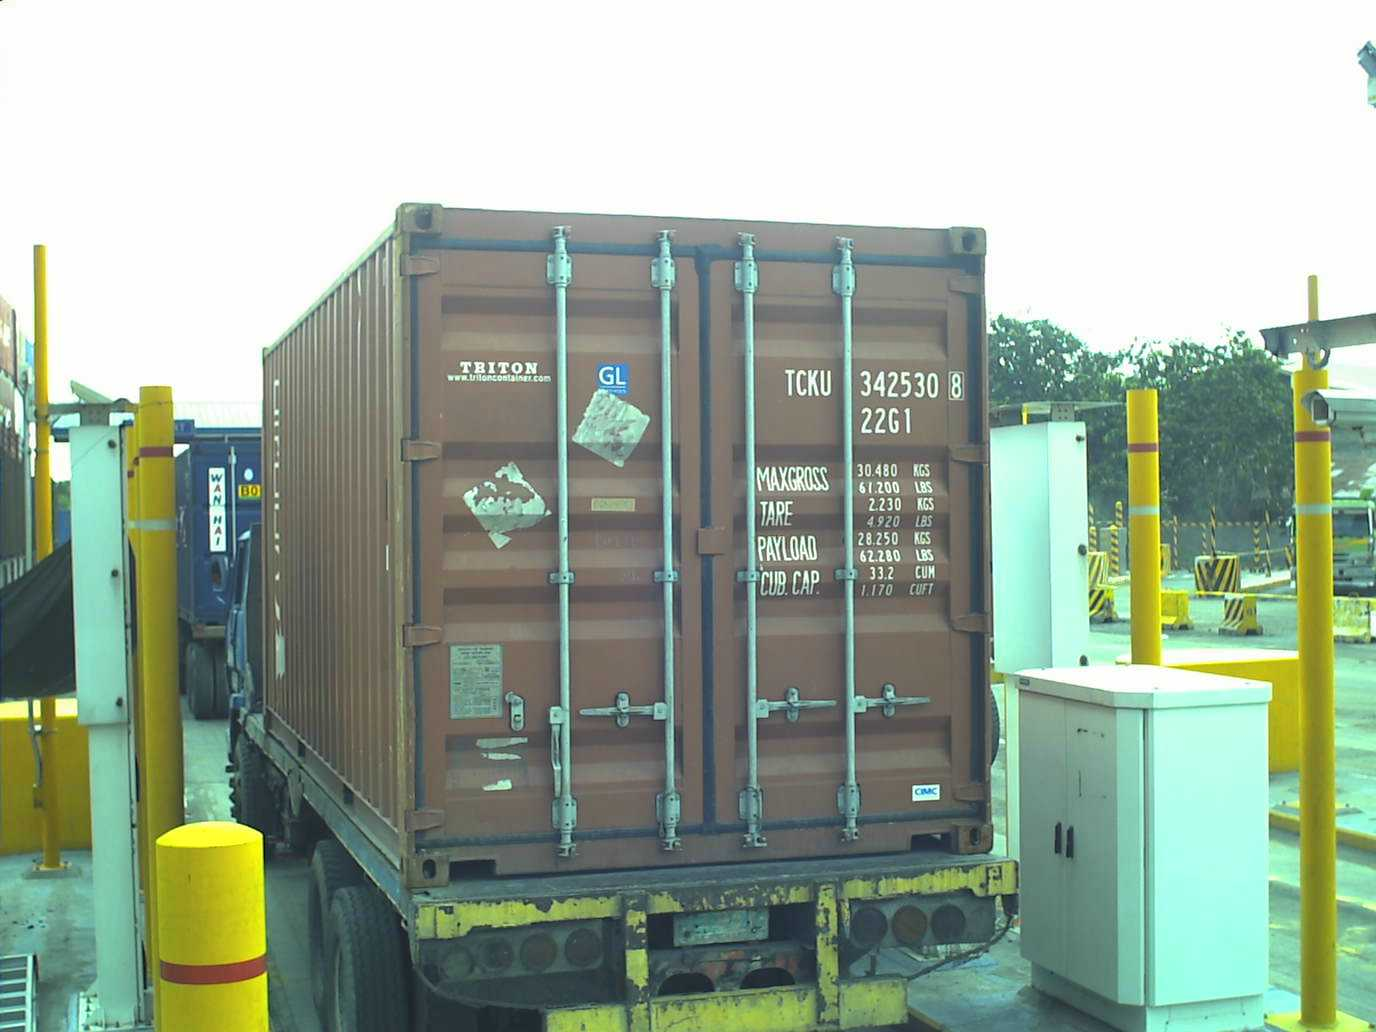container_door: (387, 202, 994, 869)
